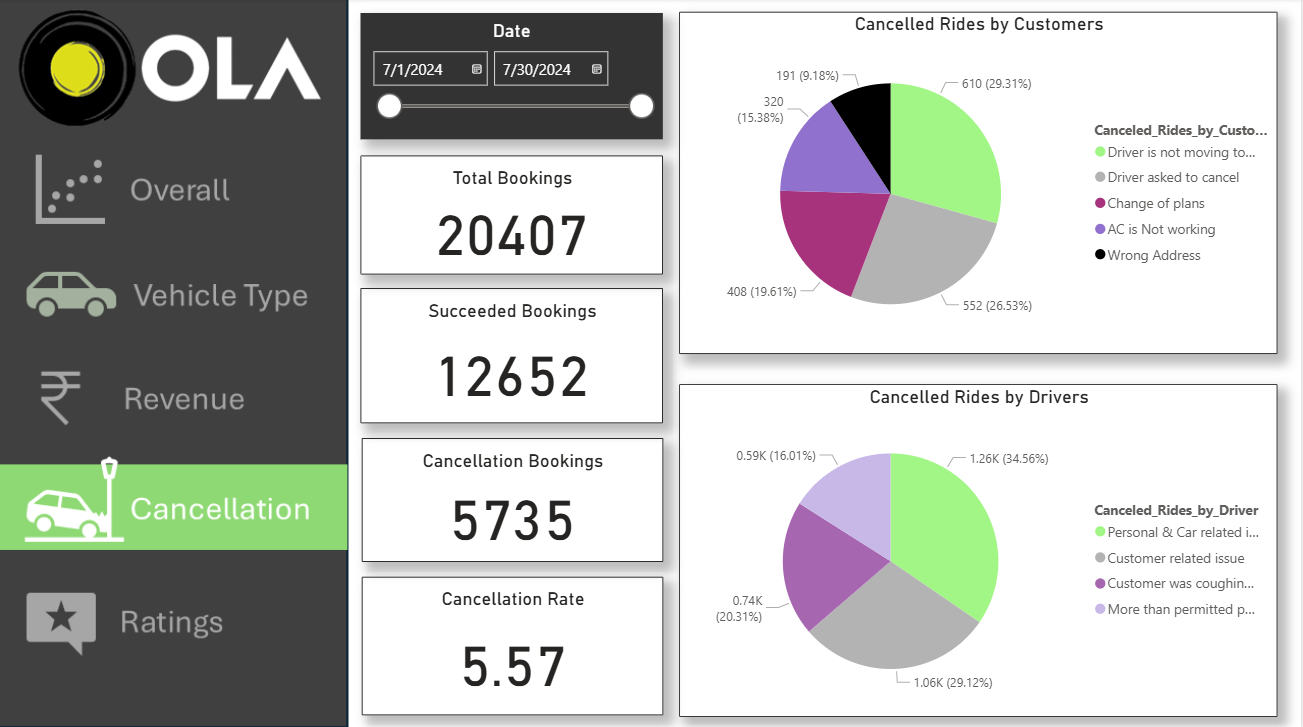

This screenshot's page, from the dashboard's own definition file:
{"tool":"powerbi","page":{"name":"Cancellation","canvas":[1280,720],"ordinal":3},"visuals":[{"type":"actionButton","box":[0,244.2,344.8,87.1],"z":0},{"type":"actionButton","box":[0,349.7,344.8,85.9],"z":1000},{"type":"actionButton","box":[0,568.1,344.8,83.4],"z":2000},{"type":"actionButton","box":[0,138.7,343.6,93.3],"z":3000},{"type":"pieChart","title":"Cancelled Rides by Customers","fields":{"Category":["July.Canceled_Rides_by_Customer"],"Y":["CountNonNull(July.Canceled_Rides_by_Customer)"]},"box":[668.8,13.8,587.5,336.2],"z":4000},{"type":"pieChart","title":"Cancelled Rides by Drivers","fields":{"Category":["July.Canceled_Rides_by_Driver"],"Y":["CountNonNull(July.Canceled_Rides_by_Driver)"]},"box":[668.8,378.8,587.5,326.2],"z":5000},{"type":"slicer","title":"Date","fields":{"Values":["July.Date"]},"box":[355.7,14.3,297.1,124.3],"z":6000},{"type":"card","title":"Total Bookings","fields":{"Values":["CountNonNull(July.Booking_ID)"]},"box":[355.7,154.3,297.1,117.1],"z":7000},{"type":"card","title":"Succeeded Bookings","fields":{"Values":["CountNonNull(July.Booking_ID)"]},"box":[355.7,284.3,297.1,132.9],"z":8000},{"type":"card","title":"Cancellation Bookings","fields":{"Values":["CountNonNull(July.Booking_ID)"]},"box":[357.1,431.4,295.7,121.4],"z":9000},{"type":"card","title":"Cancellation Rate","fields":{"Values":["July.CanceledPercentage"]},"box":[357.1,568.6,295.7,135.7],"z":10000}]}

Visuals, with their boxes in screenshot pixels (x1, y1, x2, y2), scaled from the page's 1280x720 canvas onto the 1303x727 screenshot:
actionButton: 0:247:351:335
actionButton: 0:353:351:440
actionButton: 0:574:351:658
actionButton: 0:140:350:234
"Cancelled Rides by Customers" pieChart: 681:14:1279:353
"Cancelled Rides by Drivers" pieChart: 681:382:1279:712
"Date" slicer: 362:14:665:140
"Total Bookings" card: 362:156:665:274
"Succeeded Bookings" card: 362:287:665:421
"Cancellation Bookings" card: 364:436:665:558
"Cancellation Rate" card: 364:574:665:711
